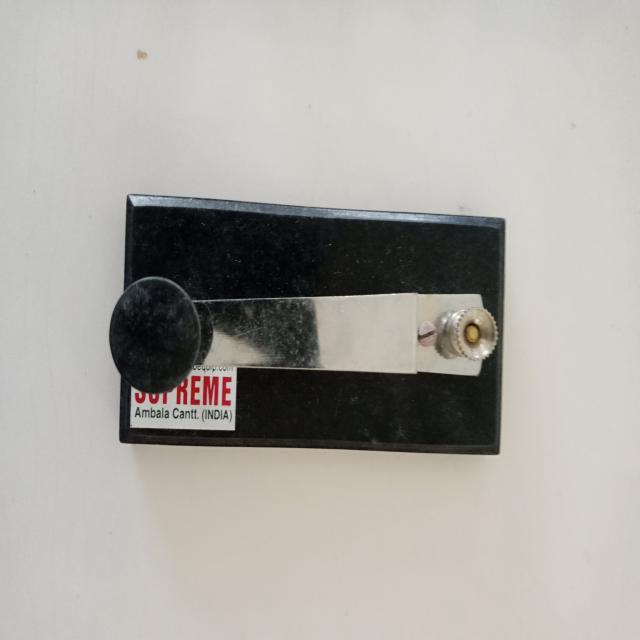Press Key: (106, 196, 518, 469)
